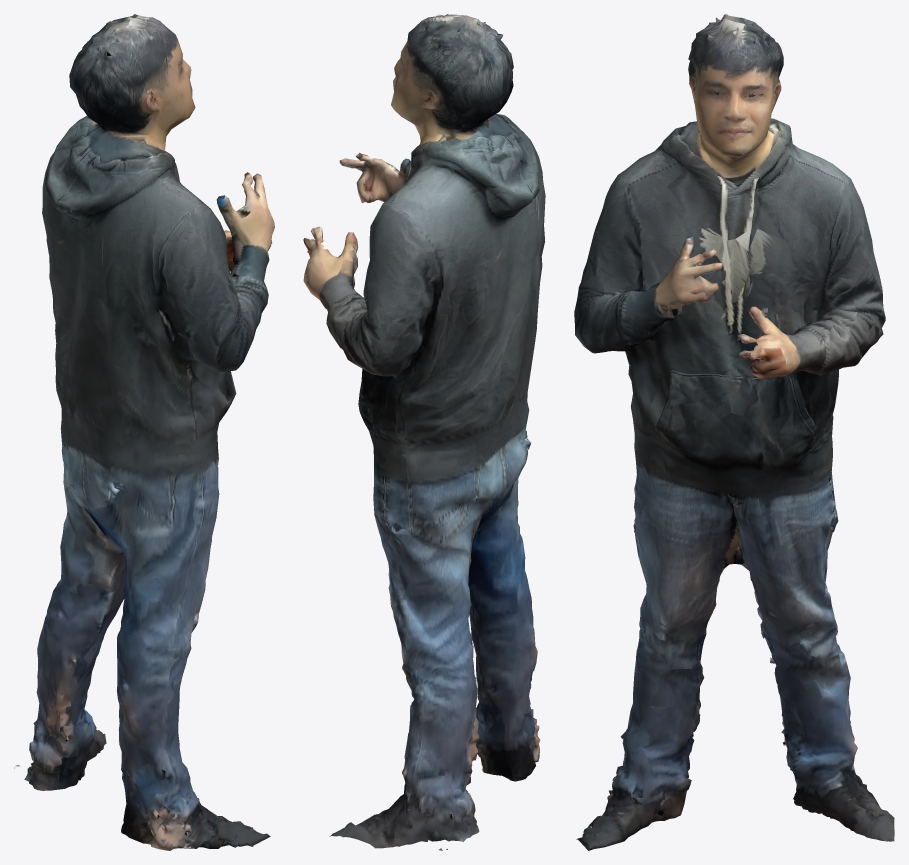
The model's file is asset.glb.
3 views of the same model, side by side, from view 1: azimuth 30°, elevation 25°; view 2: azimuth 150°, elevation 25°; view 3: azimuth 270°, elevation 25° (orthographic). The views are drawn at different scales.
Parts seen in each view (by area): view 1: Mesh_0; view 2: Mesh_0; view 3: Mesh_0.
Boxes of the visible parts, x1,y1,x2,y2 form: Mesh_0: (14,14,274,850); Mesh_0: (303,14,545,850); Mesh_0: (574,14,894,850).
Size of the model in its own units: 0.5043 by 1.68 by 0.6136.
1 material, 1 textured.
